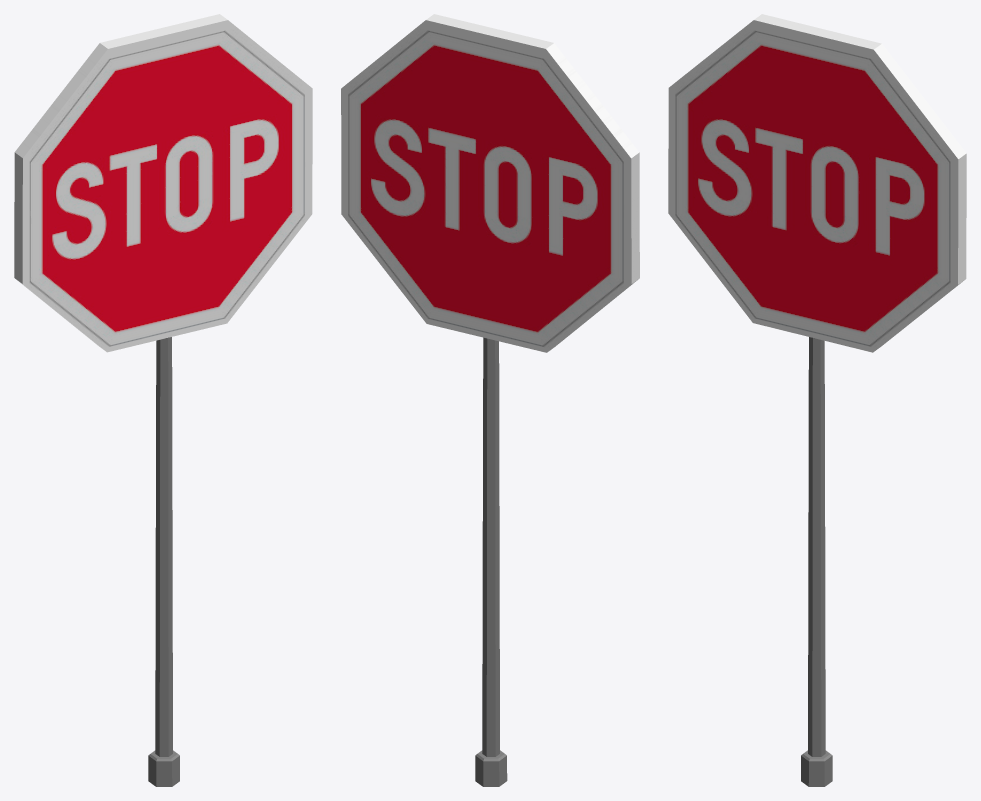
Rendered from stopSign.fbx.
3 renders of one model, left to right at view 1: azimuth 30°, elevation 25°; view 2: azimuth 150°, elevation 25°; view 3: azimuth 330°, elevation 25°, orthographic.
Parts seen in each view (by area): view 1: stop; view 2: stop; view 3: stop.
Boxes of the visible parts, x1,y1,x2,y2 form: stop: [14, 14, 312, 786]; stop: [341, 14, 639, 786]; stop: [668, 14, 966, 786].
Bounding box in the file's own units: 9.19 × 22.68 × 0.8769.
